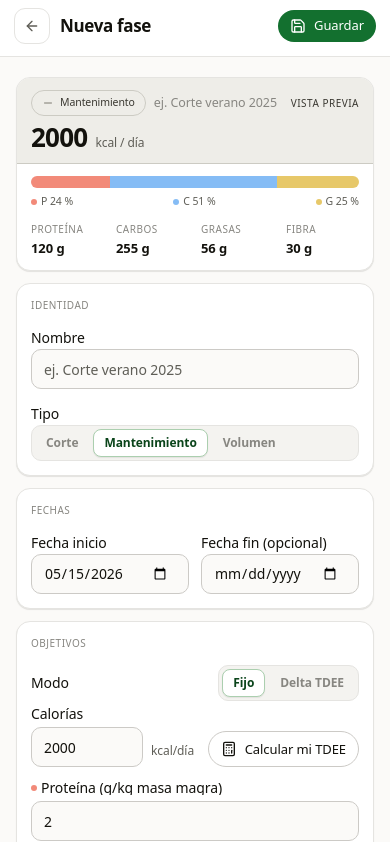
Test: PhaseEditorPage — the overlapping save (23P01) › tells the user their dates collide with another phase, in their language
Type "Corte solapado" into the field labelled "Nombre" at (195, 369), box x1=31 y1=349 x2=359 y2=389
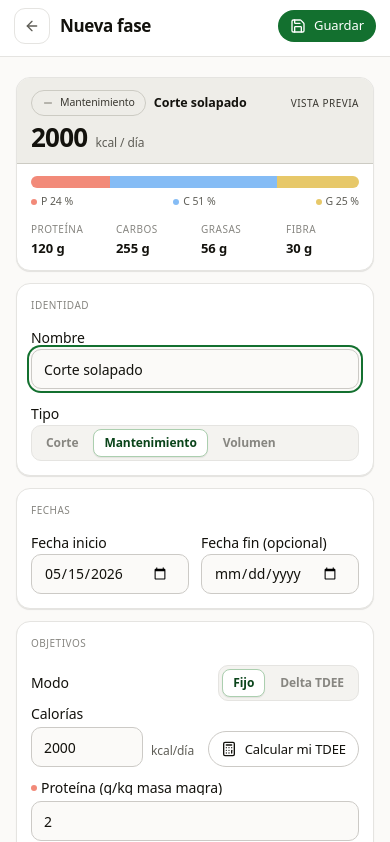
Click the button "Guardar" at (327, 26), box x1=278 y1=10 x2=376 y2=42
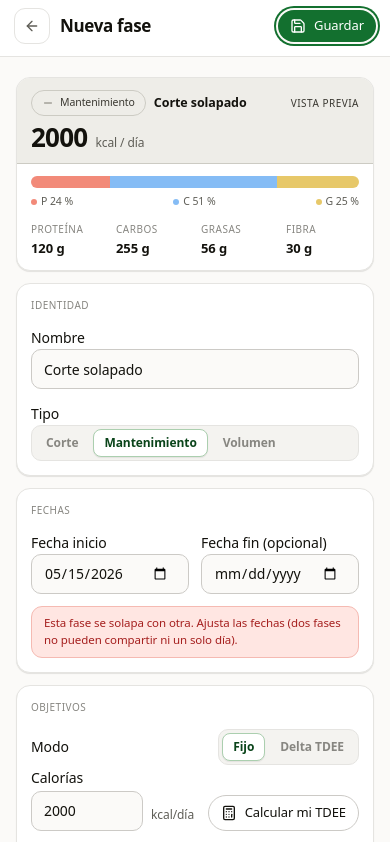
Expected: the message shows "Esta fase se solapa con otra. Ajusta las fechas (dos fases no pueden compartir ni un solo día).", x1=44 y1=615 x2=341 y2=647
